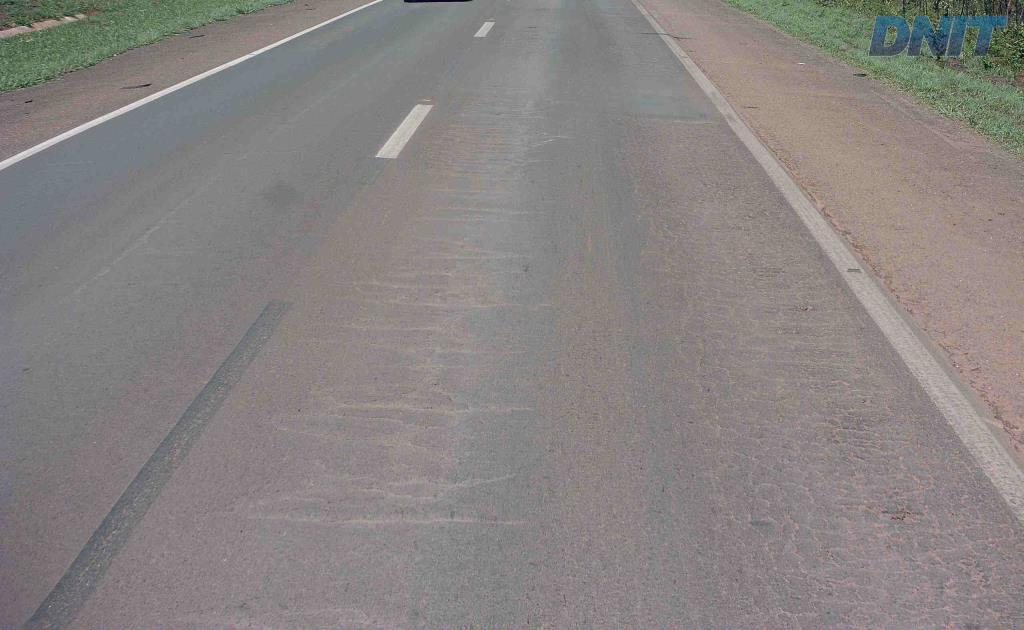crack: (880, 498, 924, 530)
